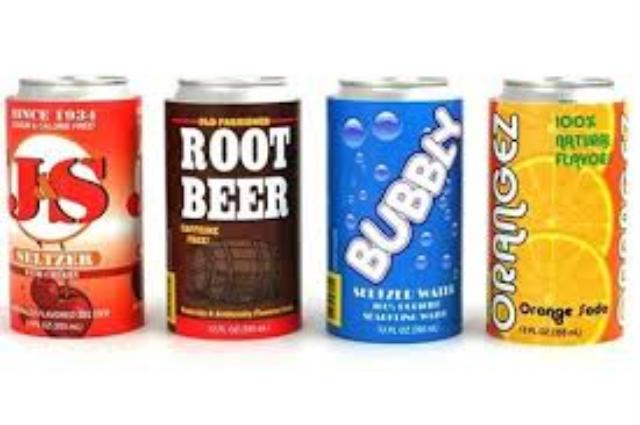metal: (484, 74, 621, 340), (5, 74, 140, 333), (326, 77, 458, 337), (163, 77, 296, 335)
